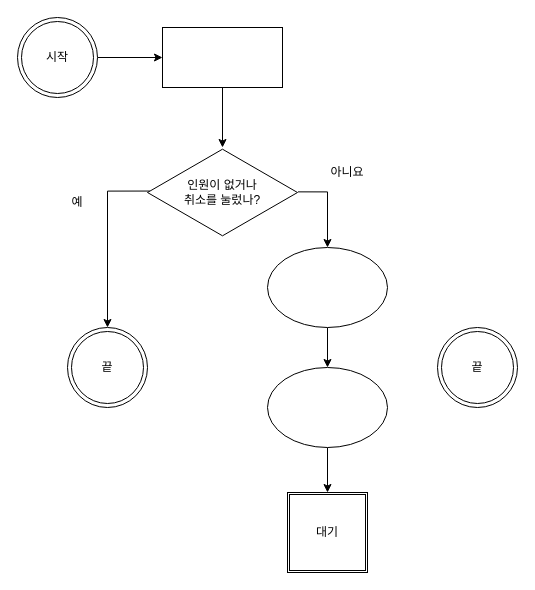
This 535x590 diagram has some shape labels left out. The box of each missing label's shape, as (x1, y1, x2, y2) in pixels:
몇 명이 참가할지 선택한다.: (162, 26, 282, 88)
제시어를 저장할 변수를 만든다.: (266, 366, 388, 448)
참가자 순서를 정한다.: (266, 246, 388, 328)
